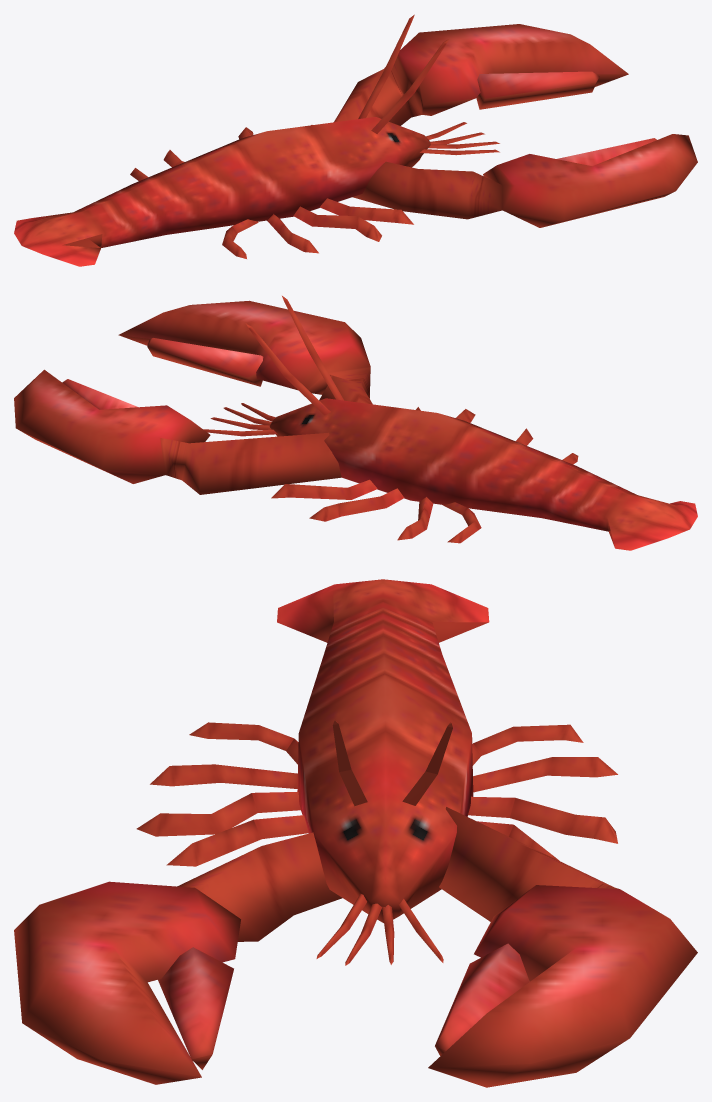
File: Lobster.fbx
3 views of the same model, one above another, from view 1: azimuth 30°, elevation 25°; view 2: azimuth 150°, elevation 25°; view 3: azimuth 270°, elevation 25° (orthographic). The views are drawn at different scales.
Visible parts, largest first — view 1: Lobster; view 2: Lobster; view 3: Lobster.
Part boxes in pixels (x1,y1,x2,y2): Lobster: (14,14,697,266); Lobster: (14,296,697,550); Lobster: (14,579,697,1087).
Size of the model in its own units: 47.93 by 10.02 by 27.39.
